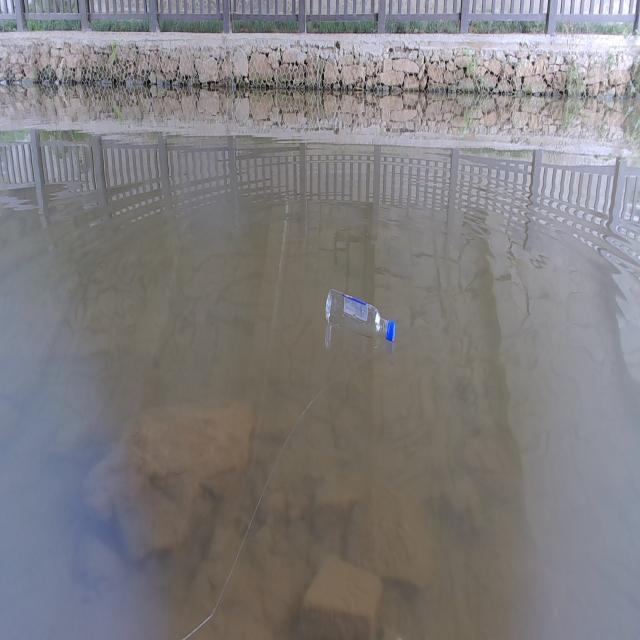Bottle: (324, 282, 397, 345)
